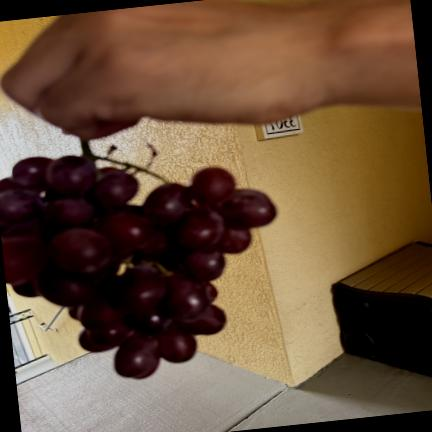grape_cluster: (0, 141, 276, 380)
